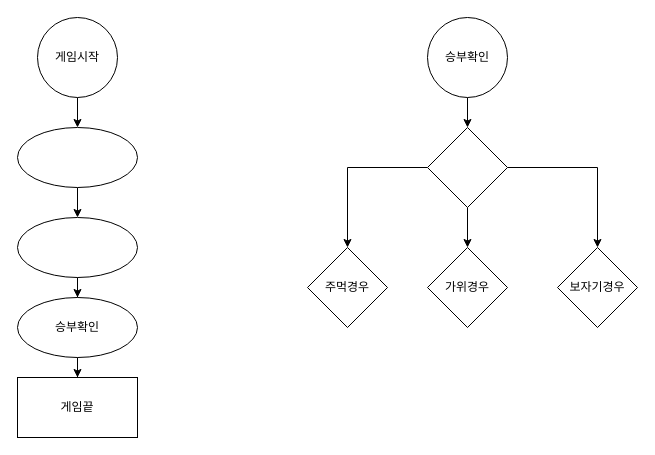
This 655x455 diagram has some shape labels left out. Each missing label, with the box of its shape:
묵,찌,빠 선택: (426, 126, 508, 208)
묵찌바중 하나 선택: (16, 216, 138, 278)
상대 묵찌빠 랜덤선택: (16, 126, 138, 188)
